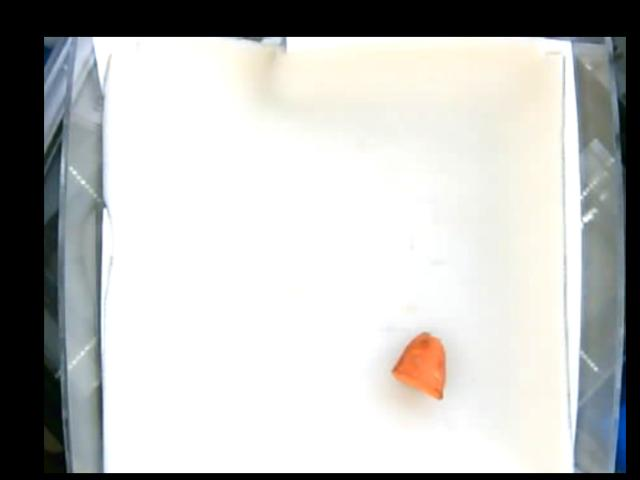Carrot: (394, 330, 444, 399)
